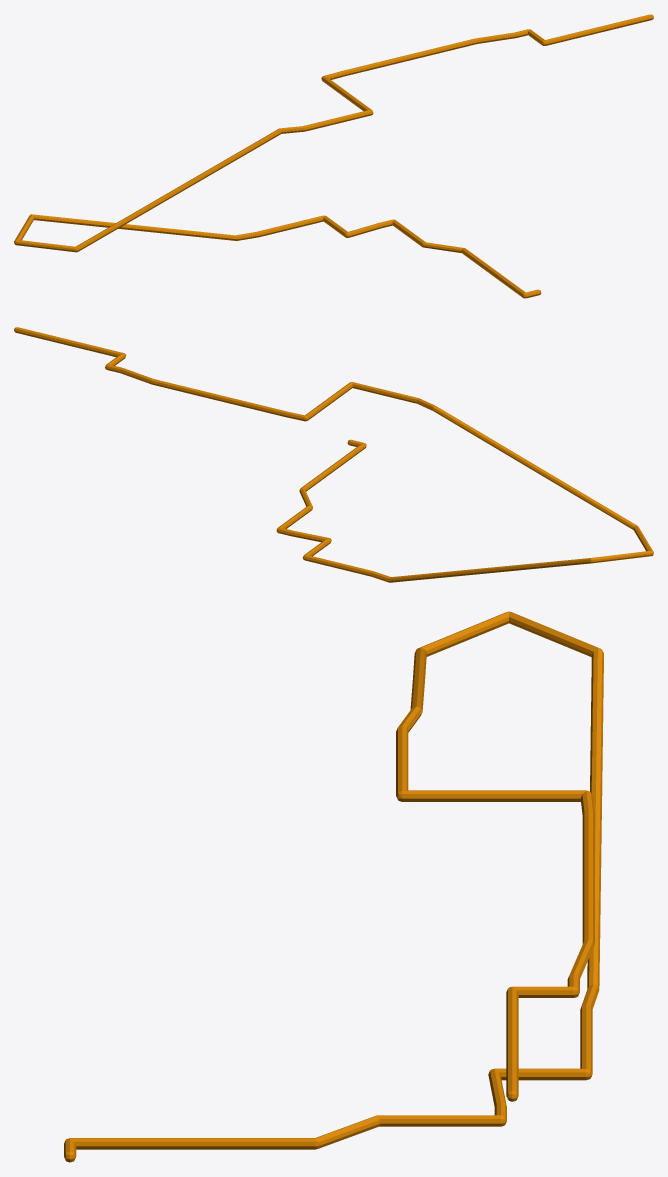
3 renders of one model, top to bottom at view 1: azimuth 30°, elevation 25°; view 2: azimuth 150°, elevation 25°; view 3: azimuth 270°, elevation 25°, orthographic. The views are drawn at different scales.
Size of the model in its own units: 2402 by 520 by 880.
